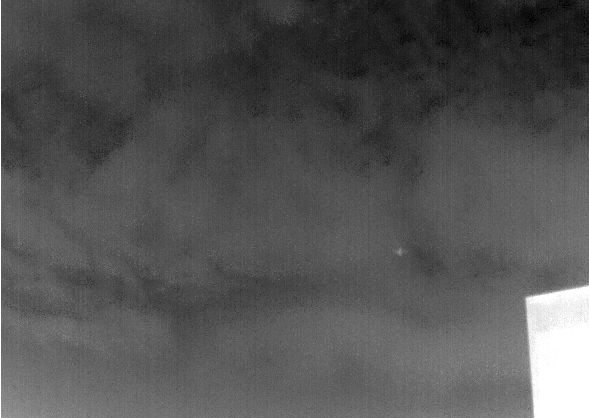dim target: (394, 245, 407, 256)
